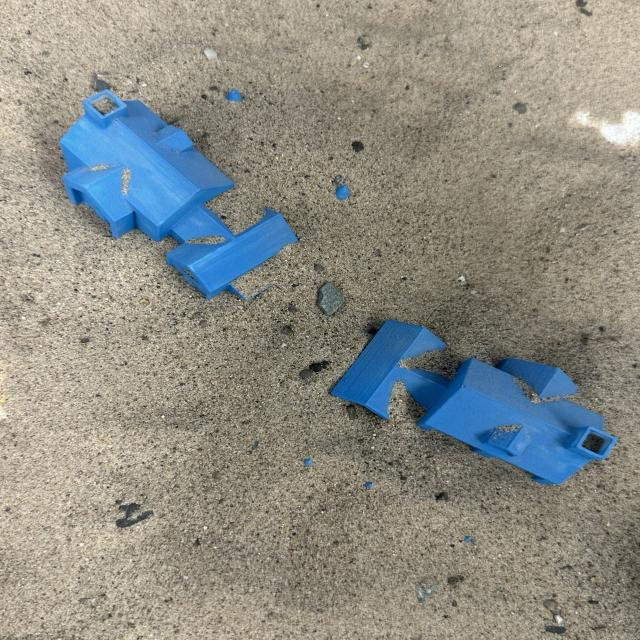house: (63, 71, 368, 293), (325, 298, 616, 487)
